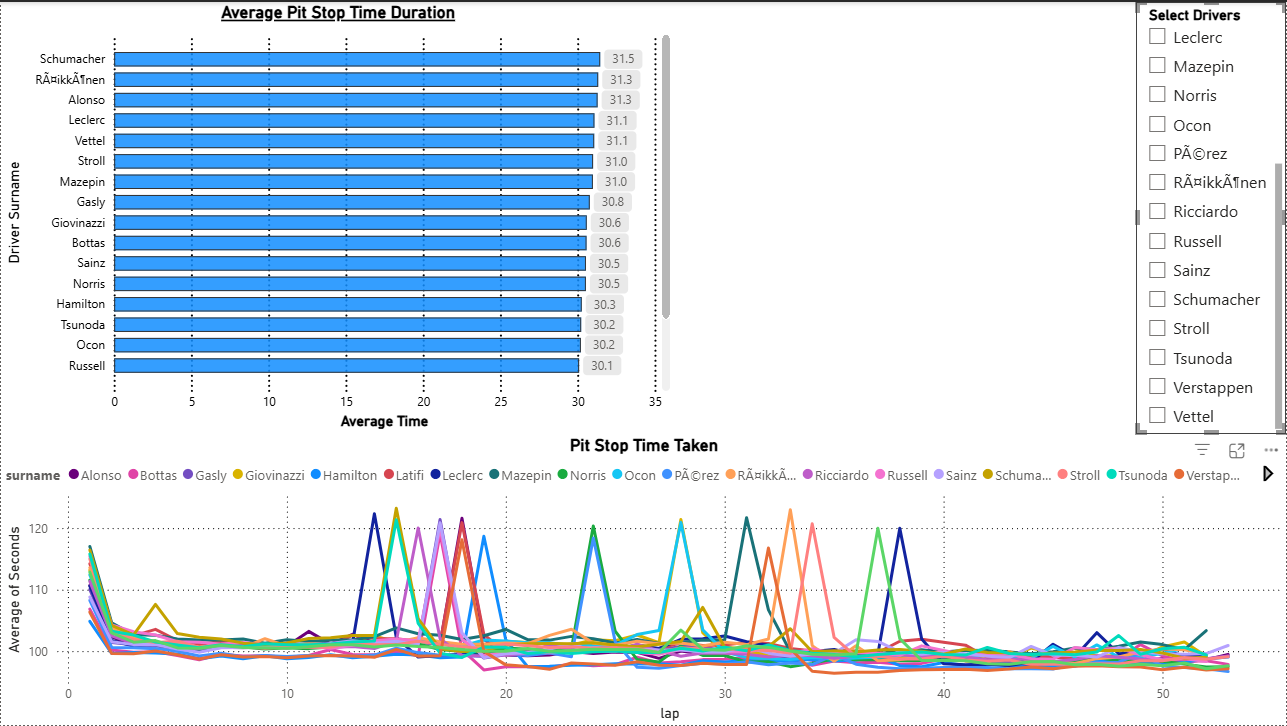

This screenshot's page, from the dashboard's own definition file:
{"tool":"powerbi","page":{"name":"Page 1","canvas":[1280,720],"ordinal":0},"visuals":[{"type":"clusteredBarChart","title":"Average Pit Stop Time Duration","fields":{"Category":["project_1 driver_data.surname"],"Y":["Avg(project_1 pit_data.duration)"]},"box":[0,0,671,430],"z":0},{"type":"lineChart","title":"Pit Stop Time Taken","fields":{"Category":["project_1 lap_data.lap"],"Y":["Sum(project_1 lap_data.seconds)"],"Series":["project_1 driver_data.surname"]},"box":[0,430,1280,290],"z":1000},{"type":"slicer","fields":{"Values":["project_1 driver_data.surname"]},"box":[1129,0,151,430],"z":2000}]}

Visuals, with their boxes in screenshot pixels (x1, y1, x2, y2), scaled from the page's 1280x720 canvas onto the 1287x726 screenshot:
"Average Pit Stop Time Duration" clusteredBarChart: [x1=0, y1=0, x2=675, y2=434]
"Pit Stop Time Taken" lineChart: [x1=0, y1=434, x2=1286, y2=725]
slicer - project_1 driver_data.surname: [x1=1135, y1=0, x2=1286, y2=434]
